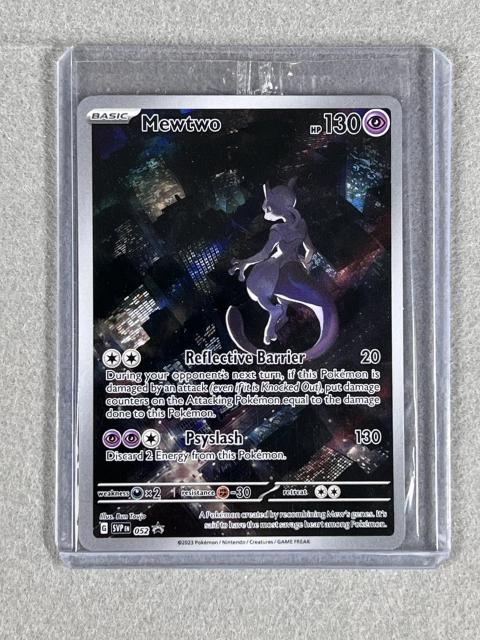Card: (73, 93, 412, 554)
Name: (135, 110, 225, 139)
